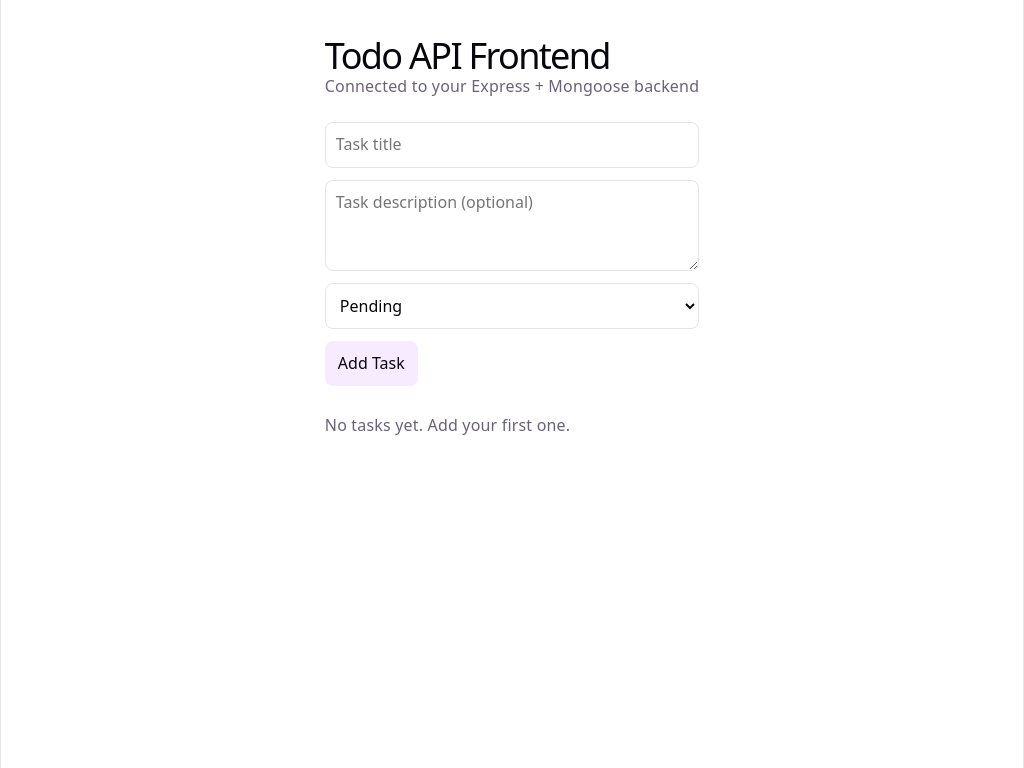
Scenario: App › creates a new task and prepends it to the list
expect the text "No tasks yet. Add your first one." is shown: met, box [325,414,570,436]
Type "Learn testing" into the field with placeholder "Task title". click: (512, 145)
box: [325,122,699,168]
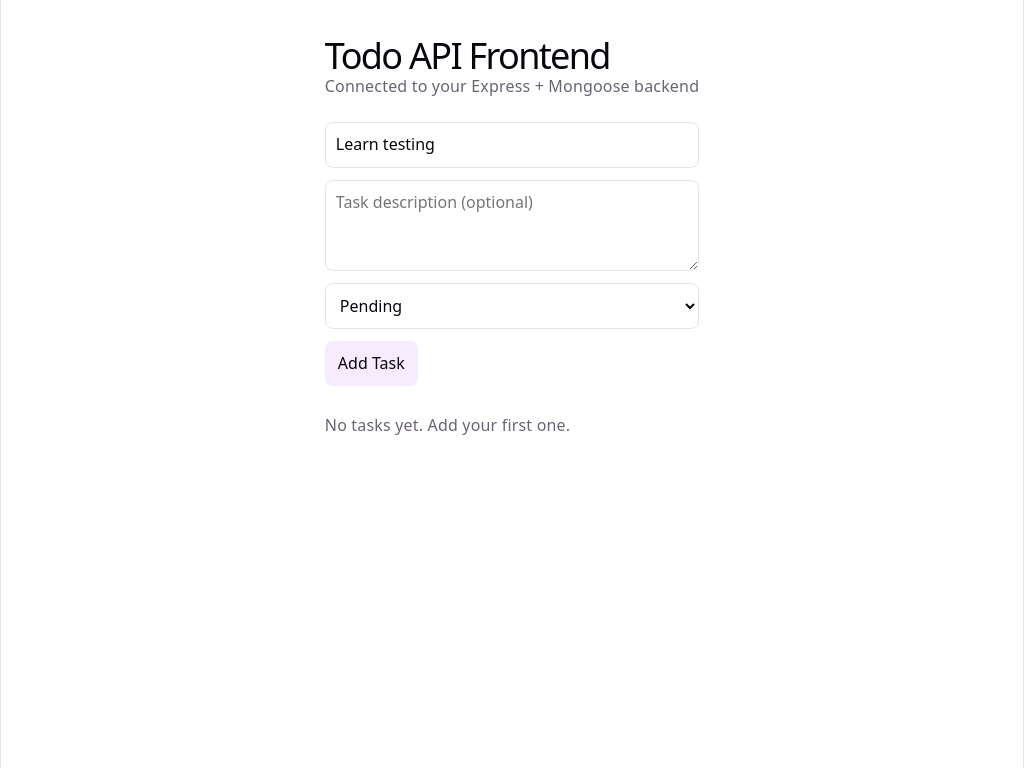
Type "Use Vitest and RTL" into the text box with placeholder "Task description (optional)". click: (512, 225)
box: [325,180,699,271]
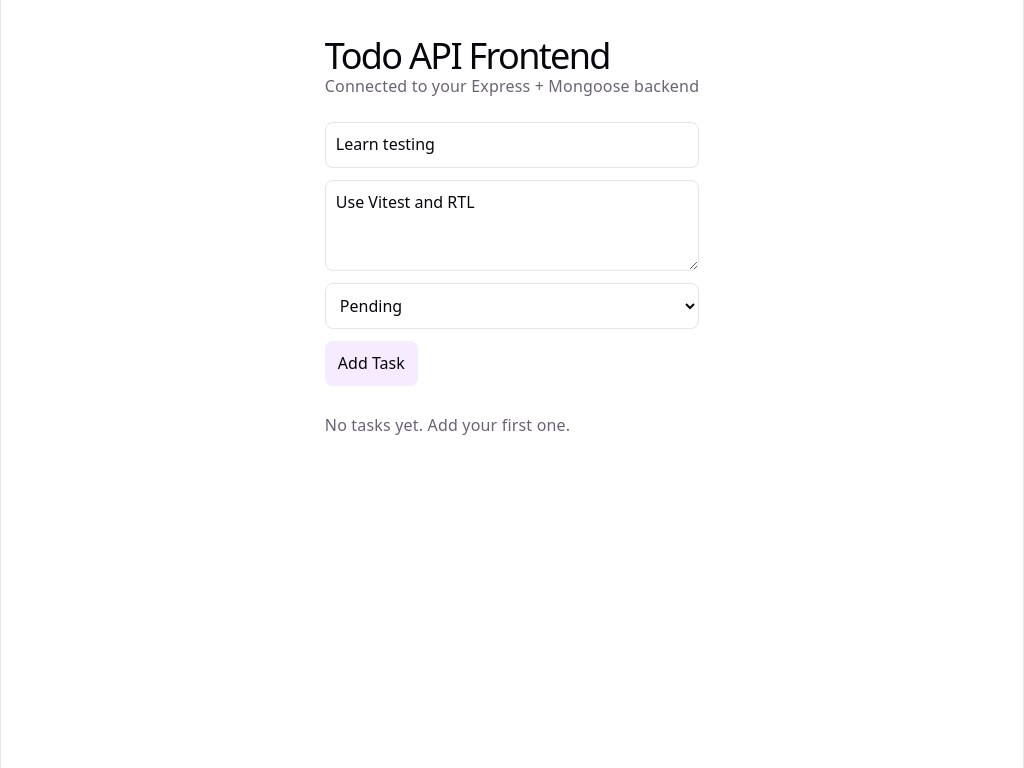
Click the button "Add Task". click: (371, 364)
box: [325,341,418,386]
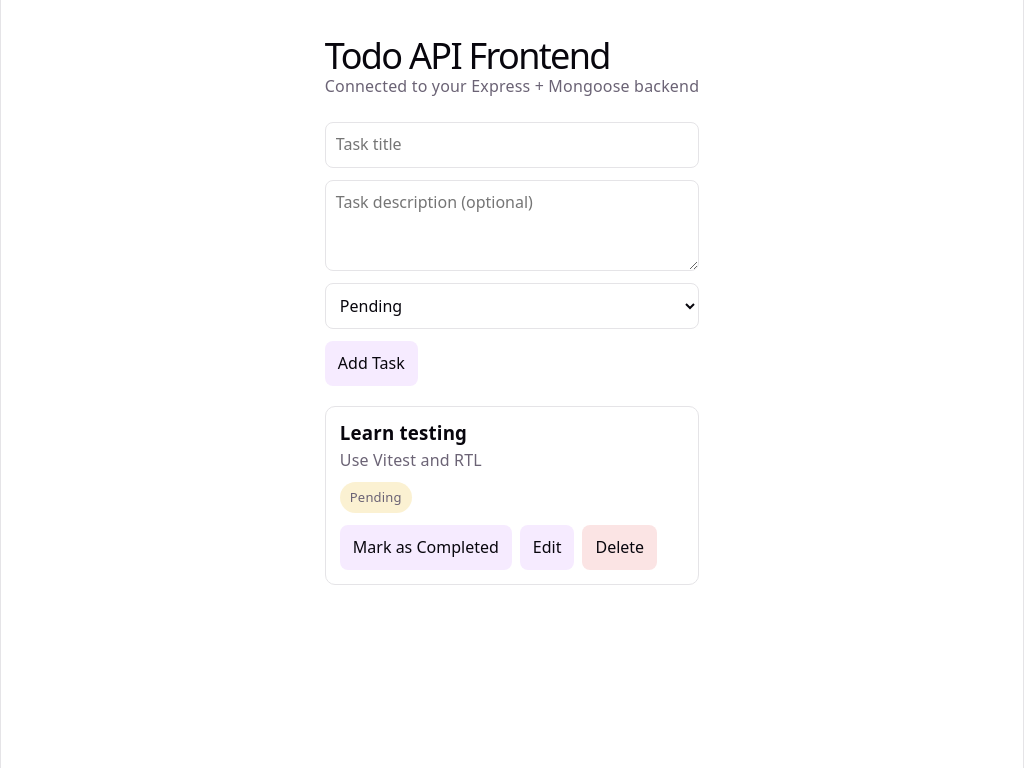
expect the heading "Learn testing" is shown: met, box [340,420,467,445]
expect the text "Use Vitest and RTL" is shown: met, box [340,449,482,471]
expect the text "pending" is shown: met, box [340,482,412,513]
